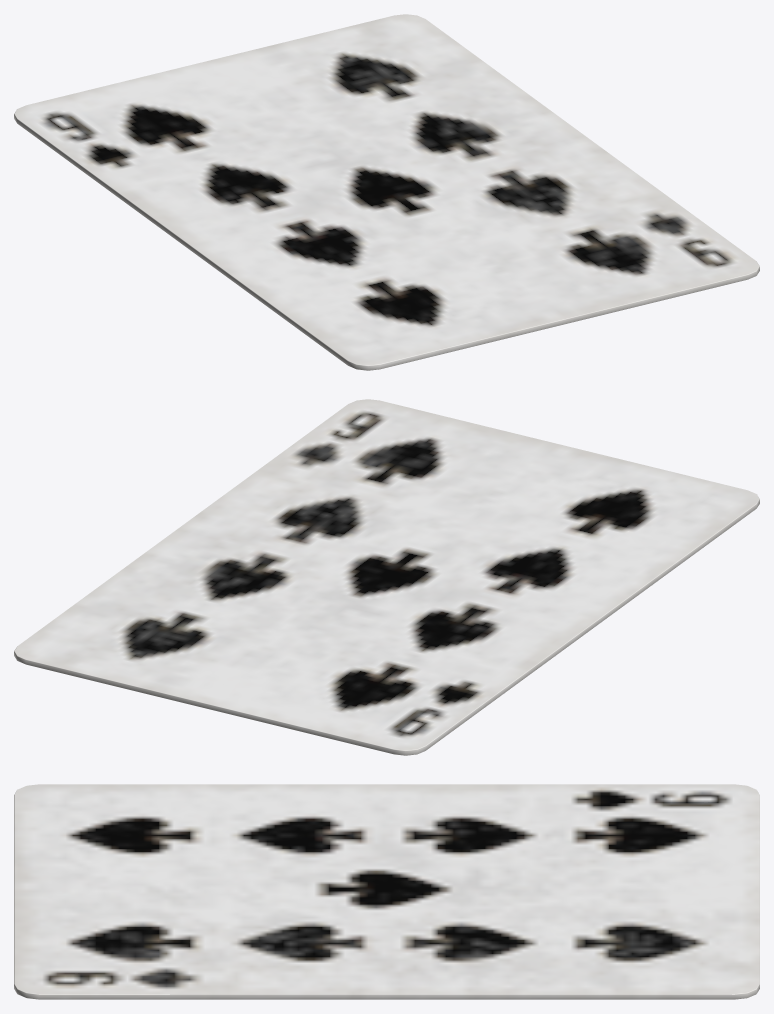
The model's file is card2.fbx.
3 renders of one model, top to bottom at view 1: azimuth 30°, elevation 25°; view 2: azimuth 150°, elevation 25°; view 3: azimuth 270°, elevation 25°, orthographic. The views are drawn at different scales.
Visible parts, largest first — view 1: spades09_playingCards_Mat_0; view 2: spades09_playingCards_Mat_0; view 3: spades09_playingCards_Mat_0.
Boxes of the visible parts, x1,y1,x2,y2 form: spades09_playingCards_Mat_0: [14, 14, 759, 370]; spades09_playingCards_Mat_0: [14, 399, 759, 755]; spades09_playingCards_Mat_0: [14, 784, 759, 999].
Size of the model in its own units: 8 by 0.1 by 12.
Materials: 1 (1 with a texture image).
